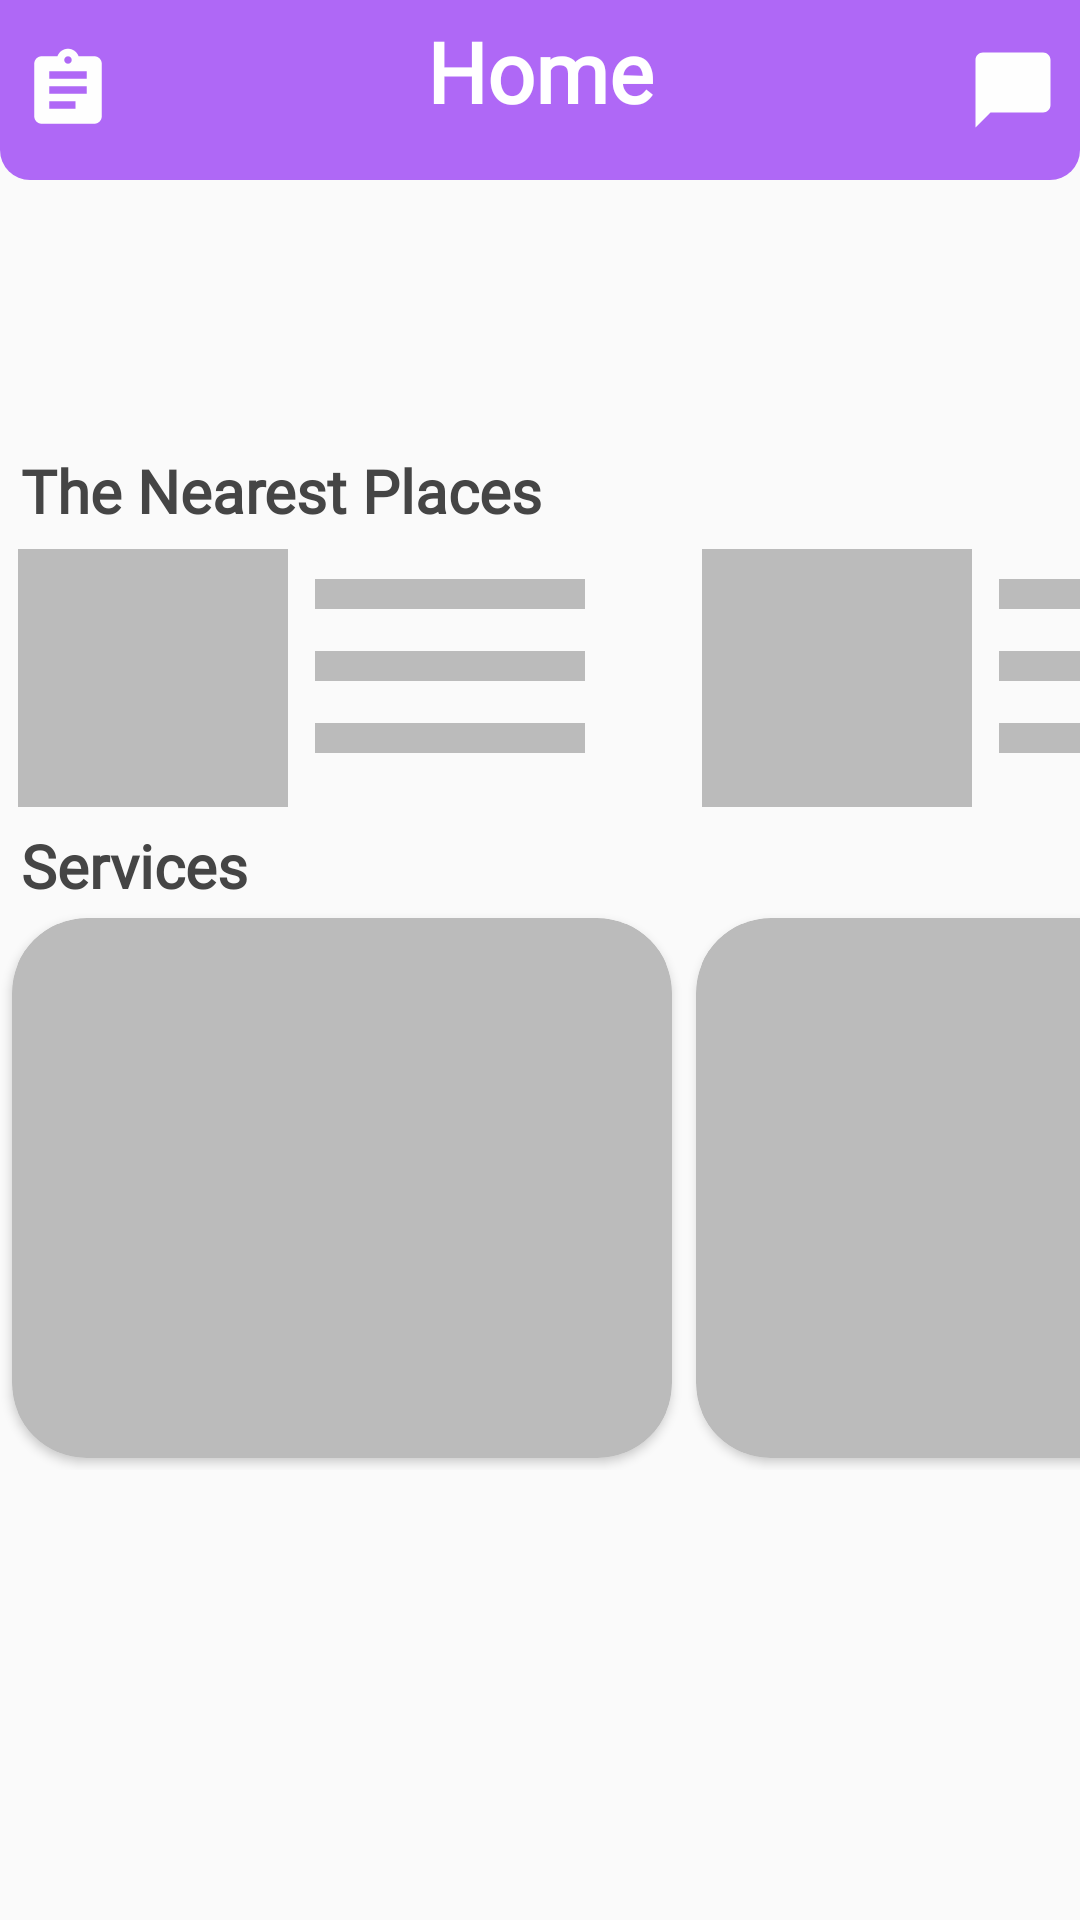

Icons on this 1080px x 1920px Android screen, each with its box as box(x1, y1, x2, y2):
assignment: box(34, 48, 102, 124)
chat bubble: box(975, 52, 1051, 127)
